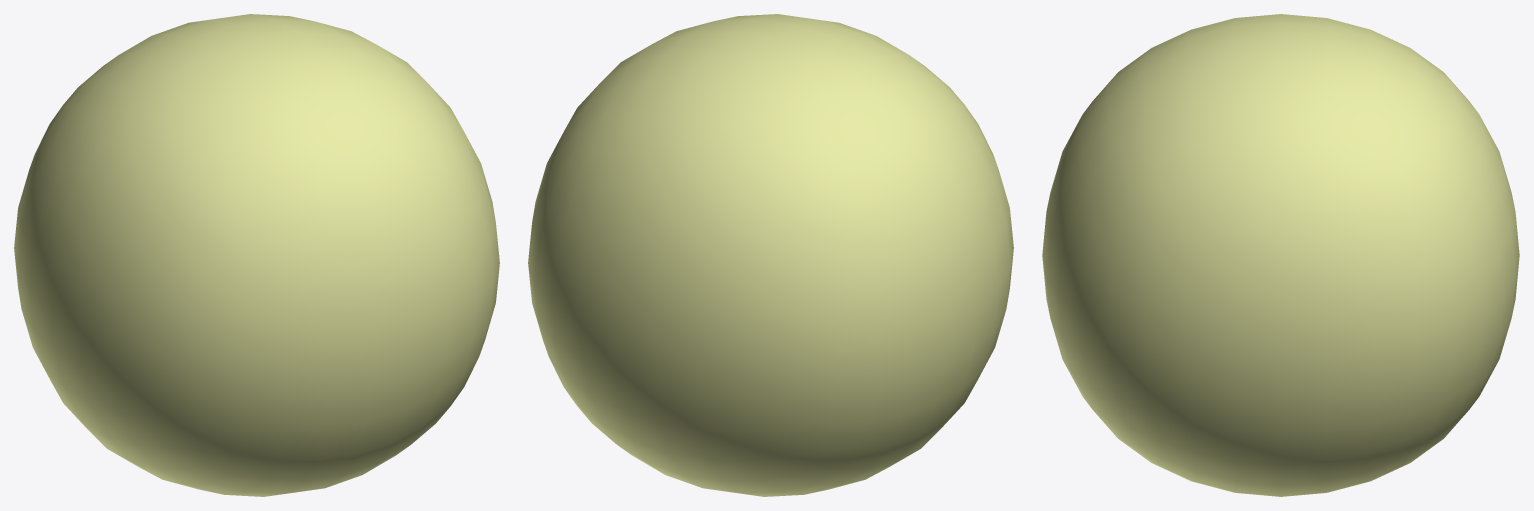
The model's file is foodgreen.fbx.
The picture shows the model from 3 angles, left to right: view 1: azimuth 30°, elevation 25°; view 2: azimuth 150°, elevation 25°; view 3: azimuth 270°, elevation 25°; orthographic projection.
Visible parts, largest first — view 1: Cube.001; view 2: Cube.001; view 3: Cube.001.
Boxes of the visible parts, x1,y1,x2,y2 form: Cube.001: [14, 14, 499, 496]; Cube.001: [528, 14, 1013, 496]; Cube.001: [1042, 14, 1519, 496].
Size of the model in its own units: 443 by 443 by 443.
